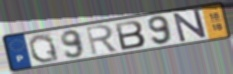9: (146, 14, 174, 46), (60, 29, 87, 59)
B: (113, 19, 148, 52)
N: (171, 8, 209, 43)
Q: (27, 33, 62, 64)
R: (84, 23, 120, 57)
